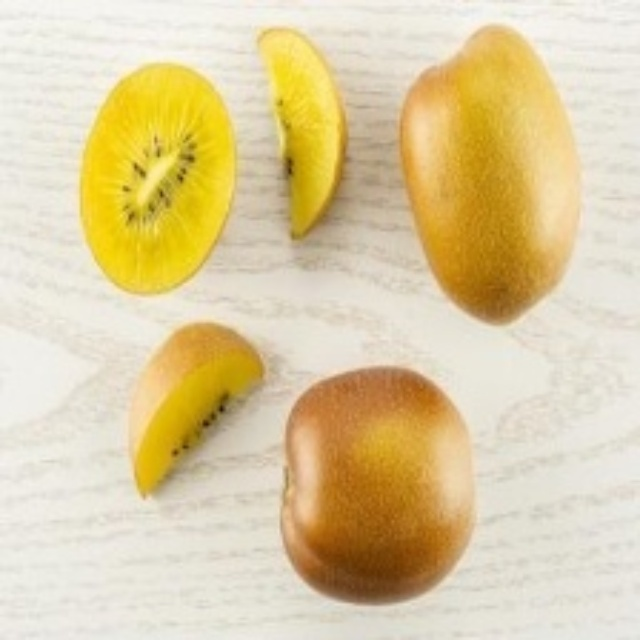kiwi: (404, 27, 576, 323), (279, 362, 472, 615), (87, 64, 235, 294), (257, 22, 354, 236), (122, 330, 252, 489)
